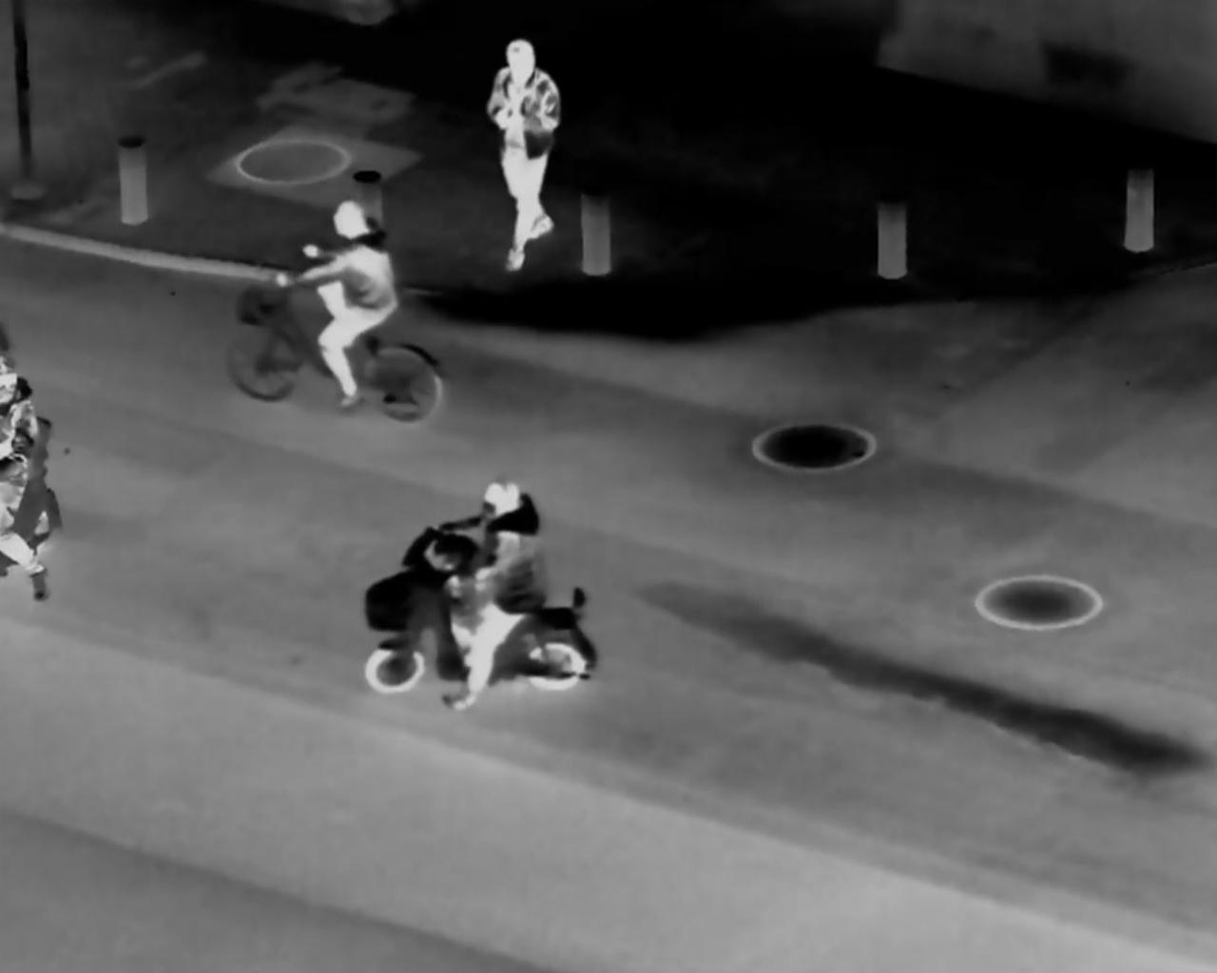person: (430, 467, 548, 706), (281, 199, 399, 428), (482, 32, 569, 274)
